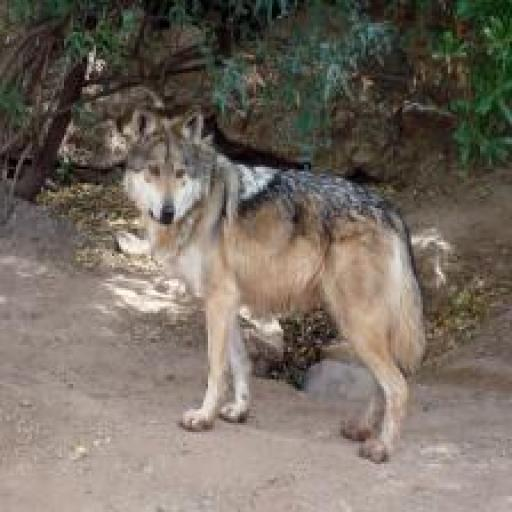wolf: (123, 98, 430, 471)
